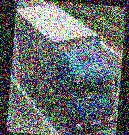truck: (7, 1, 126, 135)
